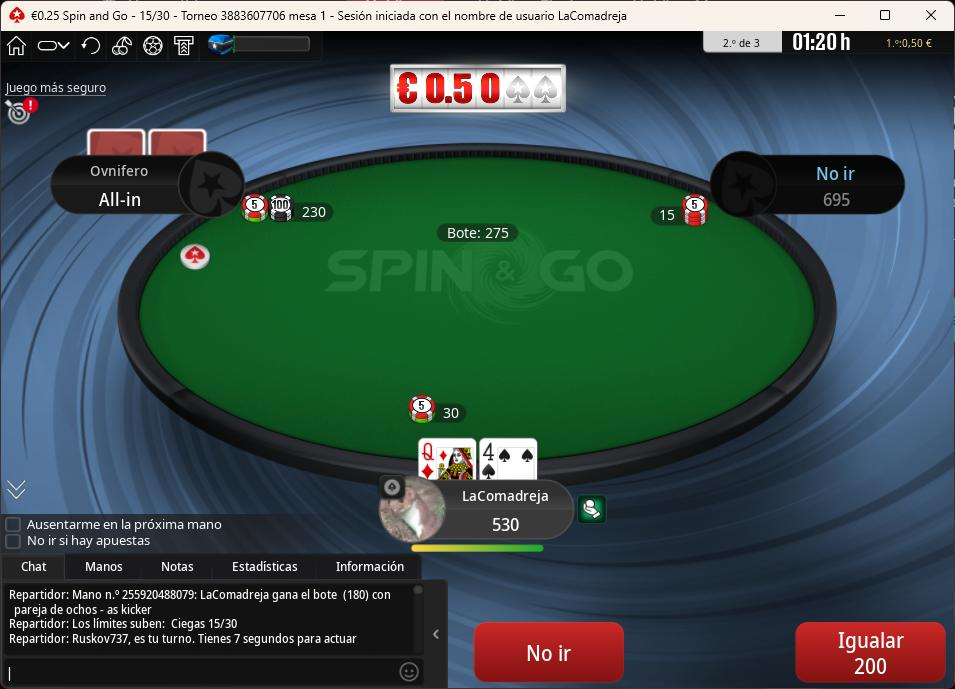ButtonCall: (789, 617, 950, 687)
ButtonFold: (470, 618, 628, 684)
Dealer: (180, 242, 214, 273)
HiddenCards: (83, 129, 213, 158)
Player: (715, 151, 908, 214), (48, 156, 243, 218)
PlayerBet: (240, 192, 344, 235), (644, 188, 709, 236)
PlayerChips: (821, 190, 857, 212)
Pot: (436, 222, 518, 244)
PrincipalBet: (408, 387, 468, 427)
PrincipalCards: (414, 435, 541, 487)
PrincipalCards1: (414, 436, 479, 483)
PrincipalCards2: (480, 436, 542, 482)
PrincipalPlayer: (372, 471, 571, 542)
PrincipalPlayerChips: (487, 511, 526, 539)
ShowedCards1: (417, 436, 478, 485)
ShowedCards2: (479, 434, 538, 482)
SmallBigBlind: (128, 1, 181, 29)
